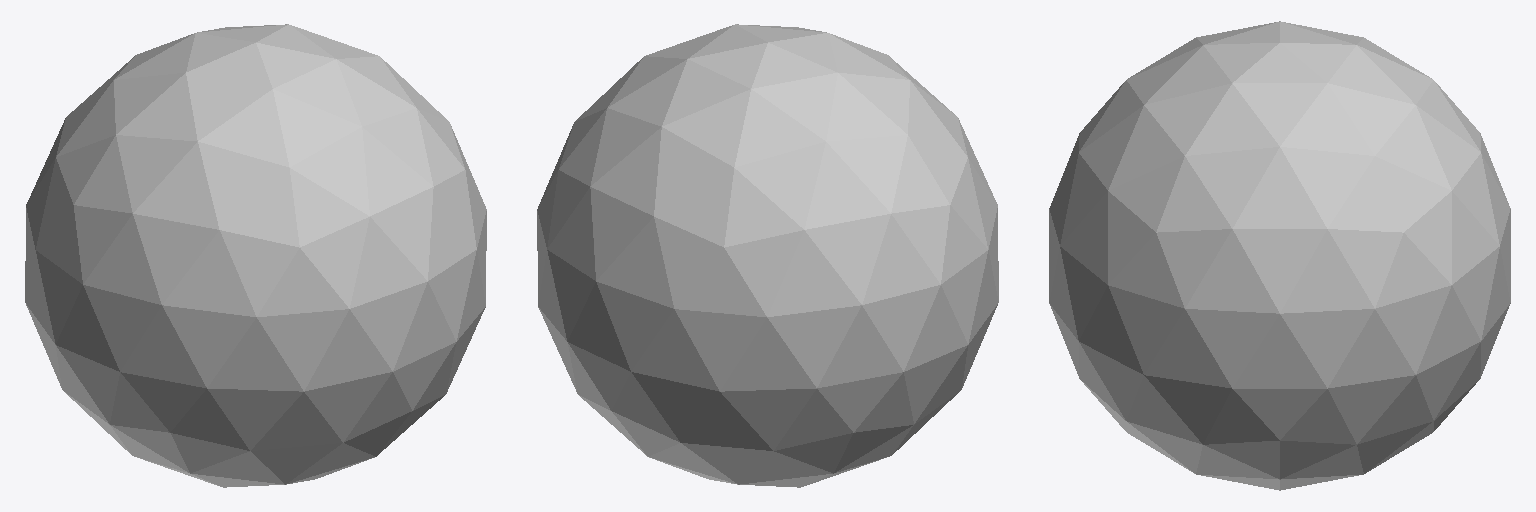
The model's file is geosphere.obj.
3 renders of one model, left to right at view 1: azimuth 30°, elevation 25°; view 2: azimuth 150°, elevation 25°; view 3: azimuth 270°, elevation 25°, orthographic.
Parts seen in each view (by area): view 1: geosphere:IcosaSphere1; view 2: geosphere:IcosaSphere1; view 3: geosphere:IcosaSphere1.
Boxes of the visible parts, <box> form: geosphere:IcosaSphere1: <box>25,24,486,487</box>; geosphere:IcosaSphere1: <box>537,24,998,487</box>; geosphere:IcosaSphere1: <box>1049,21,1510,490</box>.
Size of the model in its own units: 0.9822 by 1 by 0.9794.